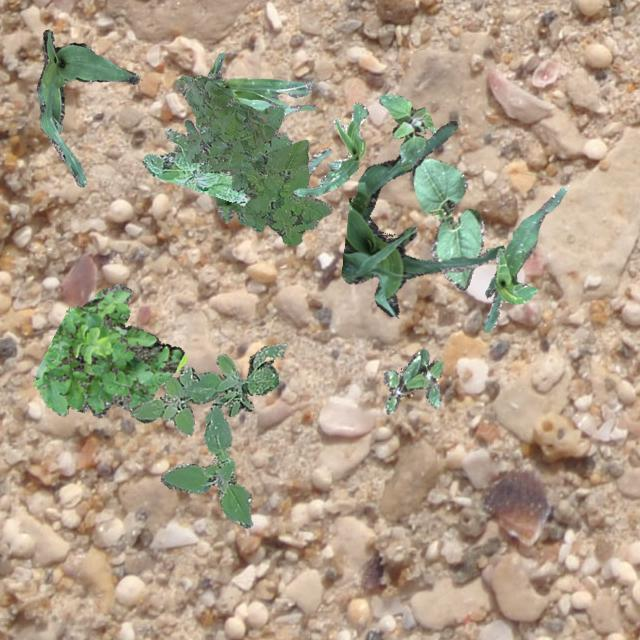crop: (341, 120, 504, 316), (35, 28, 138, 185), (184, 119, 330, 222), (482, 188, 566, 330), (410, 156, 482, 290), (292, 102, 368, 195), (206, 52, 316, 115), (282, 138, 308, 176)
weed: (128, 342, 286, 526), (176, 74, 332, 245), (32, 283, 186, 417), (142, 128, 248, 205), (378, 92, 434, 170), (382, 348, 442, 412)
